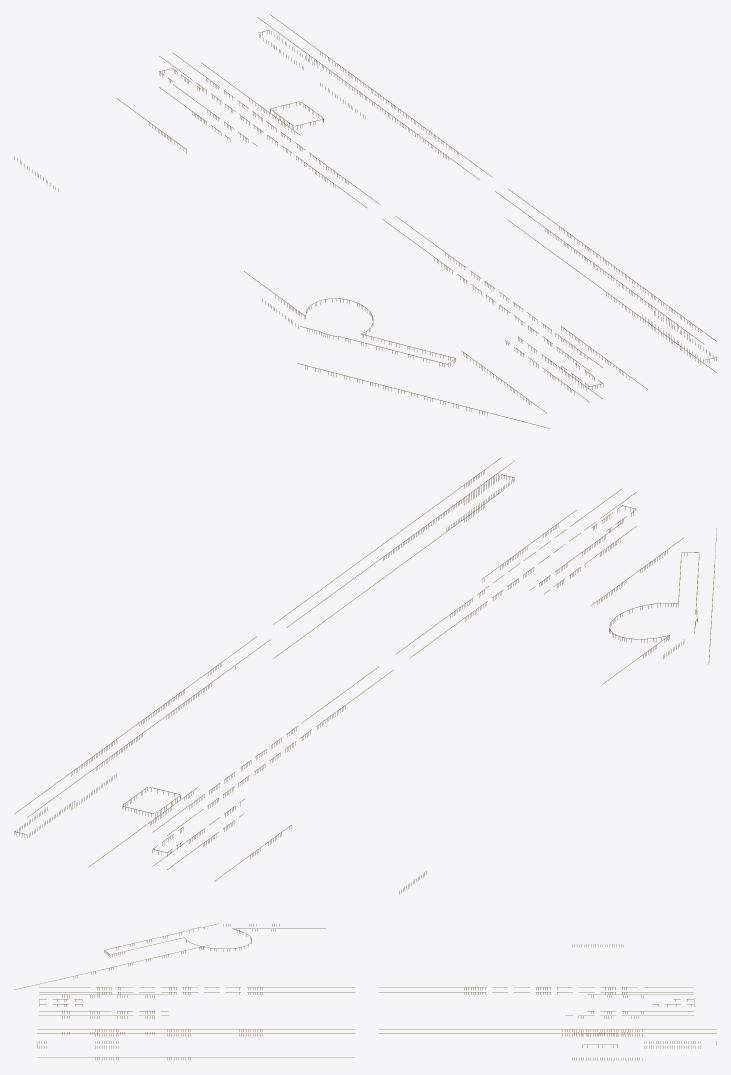
Rendered from Sunset47Receiving_r002.glb.
3 views of the same model, one above another, from view 1: azimuth 30°, elevation 25°; view 2: azimuth 150°, elevation 25°; view 3: azimuth 270°, elevation 25° (orthographic). The views are drawn at different scales.
Parts seen in each view (by area): view 1: SC_Batch_210, SC_Batch_203, SC_Batch_177, SC_Batch_169, SC_Batch_209; view 2: SC_Batch_210, SC_Batch_203, SC_Batch_169, SC_Batch_177; view 3: SC_Batch_210, SC_Batch_203, SC_Batch_177, SC_Batch_169, SC_Batch_178, SC_Batch_209.
Boxes of the visible parts, x1,y1,x2,y2 form: SC_Batch_210: (319,188,716,370); SC_Batch_203: (159,14,492,207); SC_Batch_177: (297,326,700,428); SC_Batch_169: (14,62,365,191); SC_Batch_209: (244,227,605,334); SC_Batch_210: (273,457,699,657); SC_Batch_203: (14,636,393,835); SC_Batch_169: (71,774,426,894); SC_Batch_177: (464,504,716,664); SC_Batch_210: (37,927,354,1036); SC_Batch_203: (378,987,716,1036); SC_Batch_177: (14,944,211,1060); SC_Batch_169: (565,944,693,1060); SC_Batch_178: (37,947,354,1060); SC_Batch_209: (205,923,325,1036).
Bounding box in the file's own units: 91.72 × 10.14 × 241.
Materials: 1 (1 with a texture image).
